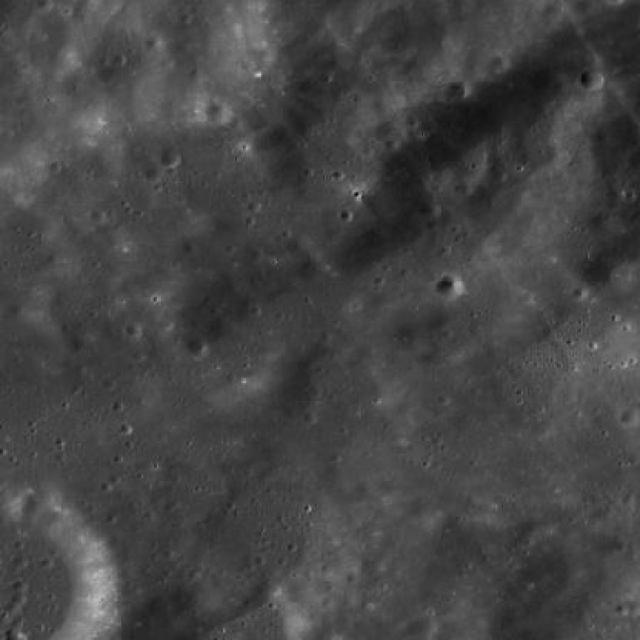crater: (288, 336, 394, 430), (508, 123, 568, 177), (578, 248, 634, 297), (168, 577, 218, 620), (393, 324, 427, 354), (89, 152, 122, 182), (522, 513, 556, 541), (382, 33, 413, 61), (374, 115, 406, 142), (434, 274, 464, 300), (406, 615, 436, 640), (284, 234, 310, 257), (444, 80, 470, 102), (205, 104, 230, 125), (187, 338, 210, 358), (418, 200, 440, 220), (580, 71, 602, 91), (158, 149, 178, 168), (488, 54, 508, 72), (620, 408, 640, 426), (624, 597, 640, 617), (7, 301, 26, 317), (568, 284, 587, 300), (144, 166, 162, 182), (34, 0, 54, 12)
